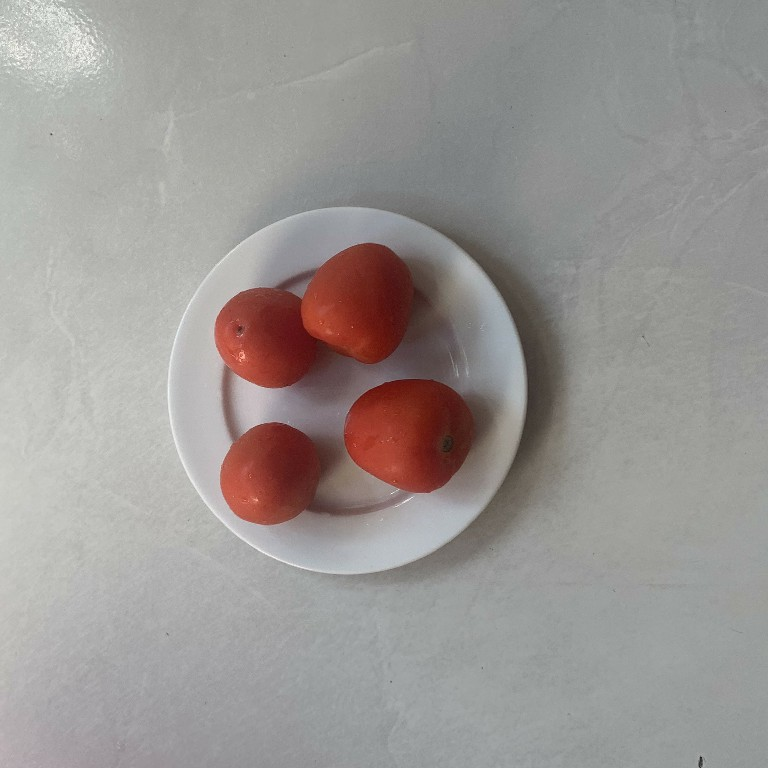OK: (338, 372, 480, 496), (295, 240, 416, 366), (211, 415, 327, 539), (211, 283, 314, 393)
